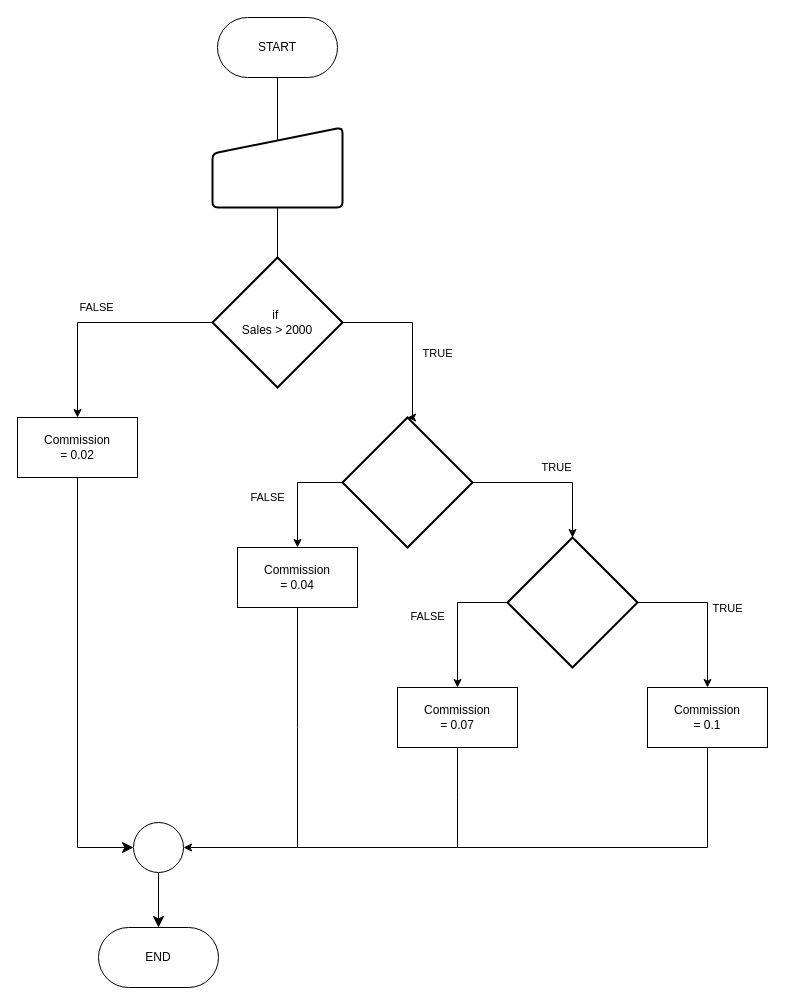
Some shapes in this 785 by 1005 pixel diagram are drawn without their labels. The shapes that lost their labels are listed below. From the top down, each one's box as (x1, y1, x2, y2) in pixels, then its label:
(211, 126, 343, 208): INPUT Sales
(341, 416, 473, 548): if Sales > 4000
(506, 536, 638, 668): if Sales > 6000
